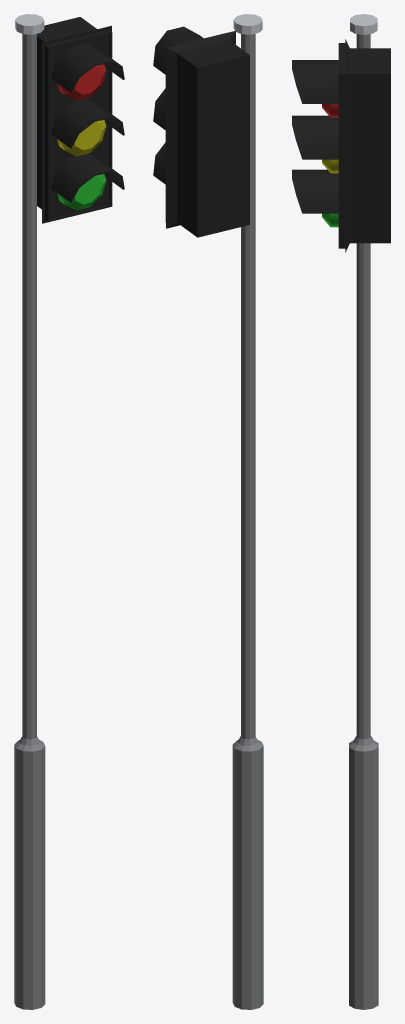
The model's file is SM_trafficlight_01.fbx.
3 renders of one model, left to right at view 1: azimuth 30°, elevation 25°; view 2: azimuth 210°, elevation 25°; view 3: azimuth 270°, elevation 25°, orthographic.
Parts seen in each view (by area): view 1: Object095; view 2: Object095; view 3: Object095.
Boxes of the visible parts, <box> form: Object095: <box>14,14,124,1009</box>; Object095: <box>153,14,263,1009</box>; Object095: <box>292,14,390,1009</box>.
Bounding box in the file's own units: 17.51 × 17.34 × 190.
